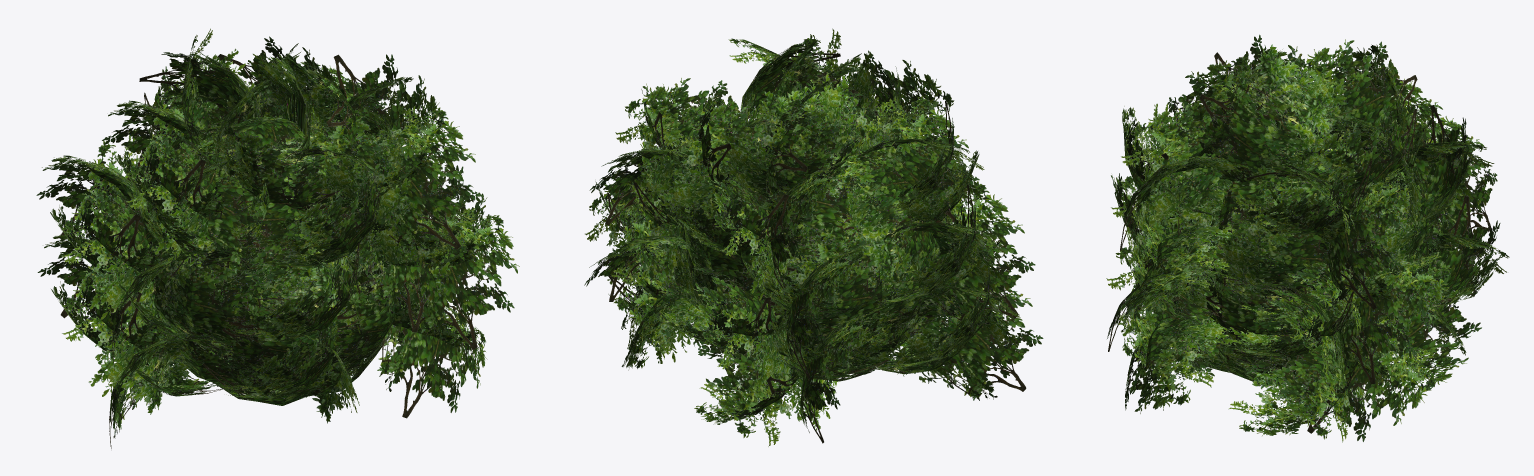
The model's file is bush.fbx.
3 views of the same model, side by side, from view 1: azimuth 30°, elevation 25°; view 2: azimuth 150°, elevation 25°; view 3: azimuth 270°, elevation 25° (orthographic). The views are drawn at different scales.
Parts seen in each view (by area): view 1: bush; view 2: bush; view 3: bush.
Part boxes in pixels (<box>): bush: <box>36,28,519,448</box>; bush: <box>584,28,1043,446</box>; bush: <box>1106,34,1509,442</box>.
Size of the model in its own units: 13.2 by 10.27 by 11.21.
